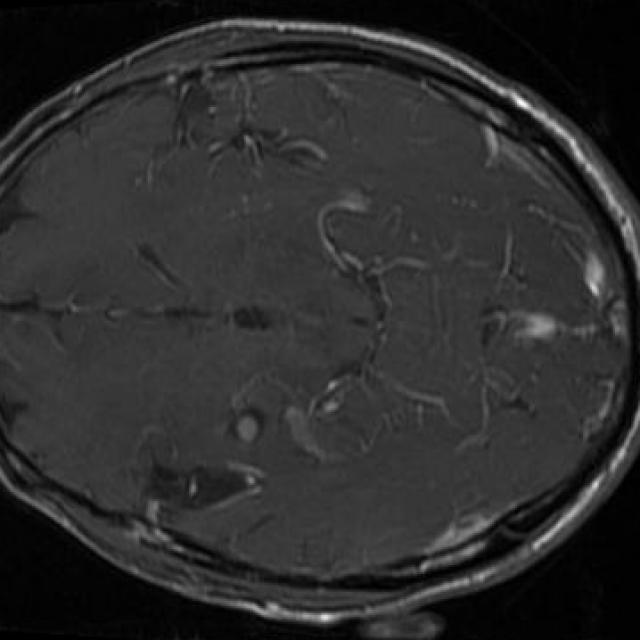glioma: (228, 410, 269, 449)
